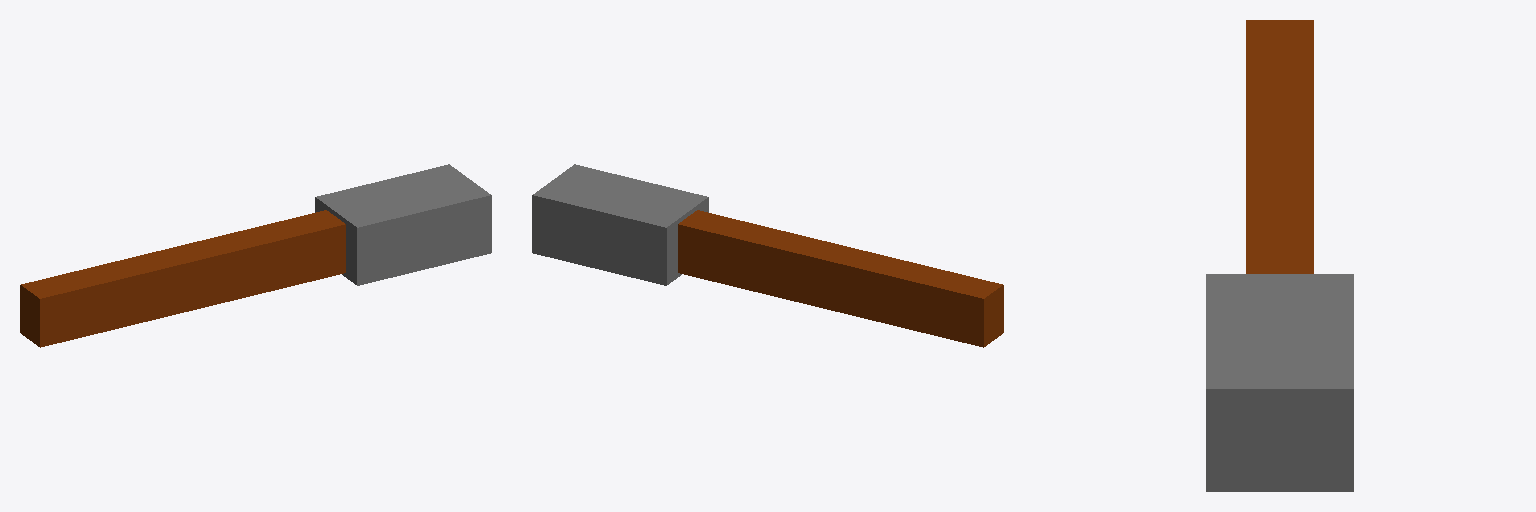
The robot description file, URDF, robot "handle_head":
<?xml version="1.0"?>
<robot name="handle_head">

  <link name="handle_head">
    <!-- Handle -->
    <visual>
              <origin xyz="0 0 0" rpy="0 0 0"/>
        <geometry>
          <box size="0.1377851741240105 0.015251946930717212 0.020963370948244672"/>
        </geometry>
        
      <material name="brown">
        <color rgba="0.55 0.27 0.07 1.0"/>
      </material>
    </visual>
    <collision>
              <origin xyz="0 0 0" rpy="0 0 0"/>
        <geometry>
          <box size="0.1377851741240105 0.015251946930717212 0.020963370948244672"/>
        </geometry>
        
    </collision>

    <!-- Head -->
    <visual>
              <origin xyz="0.09906697611771664 0 0" rpy="0 0 0"/>
        <geometry>
          <box size="0.060348778111422766 0.032832103868254095 0.025057349603046866"/>
        </geometry>
        
      <material name="gray">
        <color rgba="0.5 0.5 0.5 1.0"/>
      </material>
    </visual>
    <collision>
              <origin xyz="0.09906697611771664 0 0" rpy="0 0 0"/>
        <geometry>
          <box size="0.060348778111422766 0.032832103868254095 0.025057349603046866"/>
        </geometry>
        
    </collision>

    <inertial>
      <origin xyz="0.0445697206504214 0 0" rpy="0 0 0"/>
      <mass value="0.034493622206258484"/>
      <inertia ixx="3.268718962766607e-06" iyy="0.00012001904419315013" izz="0.00012027401721884291" ixy="0" ixz="0" iyz="0"/>
    </inertial>
  </link>

</robot>

--- Render facts (derived) ---
Views: 3 orthographic renders of the robot side by side, from view 1: azimuth 30°, elevation 25°; view 2: azimuth 150°, elevation 25°; view 3: azimuth 270°, elevation 25°.
Model handle_head with 1 links and 0 joints (none), rooted at handle_head, posed every joint at zero.
Links seen in each view (by area): view 1: handle_head; view 2: handle_head; view 3: handle_head.
Link boxes in pixels (bbox=[...]): handle_head: bbox=[20, 164, 491, 347]; handle_head: bbox=[532, 164, 1003, 347]; handle_head: bbox=[1206, 20, 1353, 491].
Size in the robot's own frame: 0.1981 by 0.0328 by 0.0251 metres.
Geometry: primitives only (box / cylinder / sphere), no mesh files.
